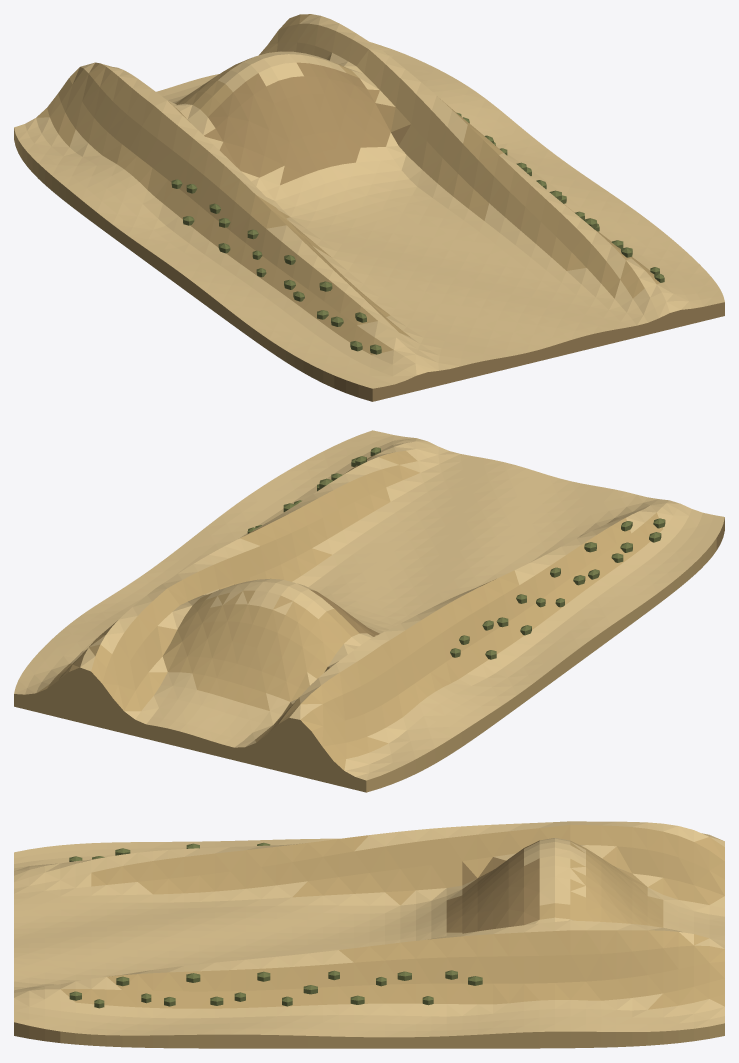
3 views of the same model, one above another, from view 1: azimuth 30°, elevation 25°; view 2: azimuth 150°, elevation 25°; view 3: azimuth 270°, elevation 25° (orthographic).
Parts seen in each view (by area): view 1: continuous_parabolic_dune_blowout_and_trailing_arms, vegetation_anchoring_trailing_arms; view 2: continuous_parabolic_dune_blowout_and_trailing_arms, vegetation_anchoring_trailing_arms; view 3: continuous_parabolic_dune_blowout_and_trailing_arms, vegetation_anchoring_trailing_arms.
Boxes of the visible parts, bbox=[...] form: continuous_parabolic_dune_blowout_and_trailing_arms: bbox=[14, 14, 724, 401]; vegetation_anchoring_trailing_arms: bbox=[171, 112, 664, 354]; continuous_parabolic_dune_blowout_and_trailing_arms: bbox=[14, 430, 724, 792]; vegetation_anchoring_trailing_arms: bbox=[247, 447, 665, 659]; continuous_parabolic_dune_blowout_and_trailing_arms: bbox=[14, 821, 724, 1048]; vegetation_anchoring_trailing_arms: bbox=[69, 842, 482, 1008].
Bounding box in the file's own units: 30 × 7.36 × 46.
